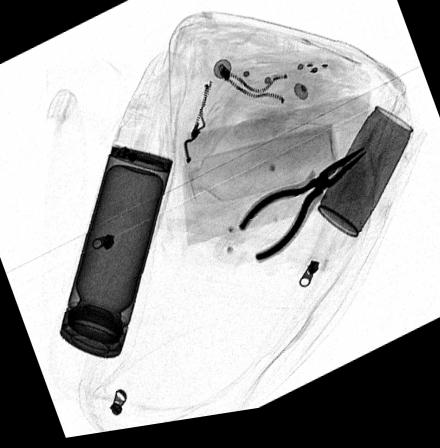Pliers: (237, 157, 369, 271)
